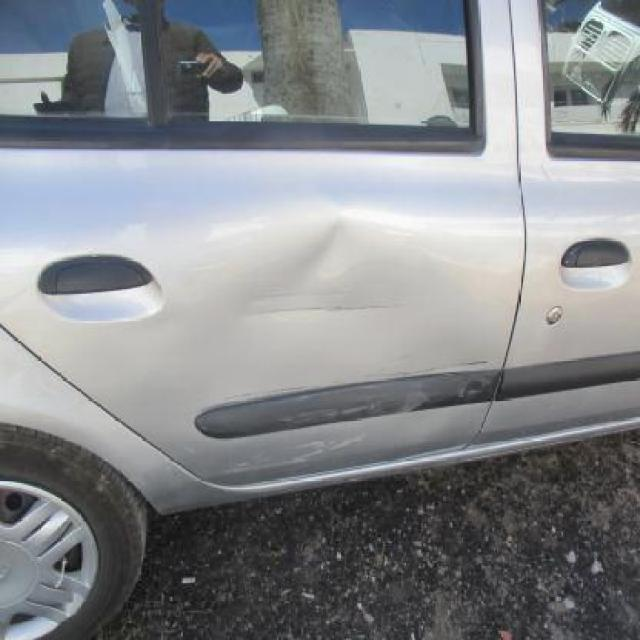car damage: (300, 201, 377, 304)
